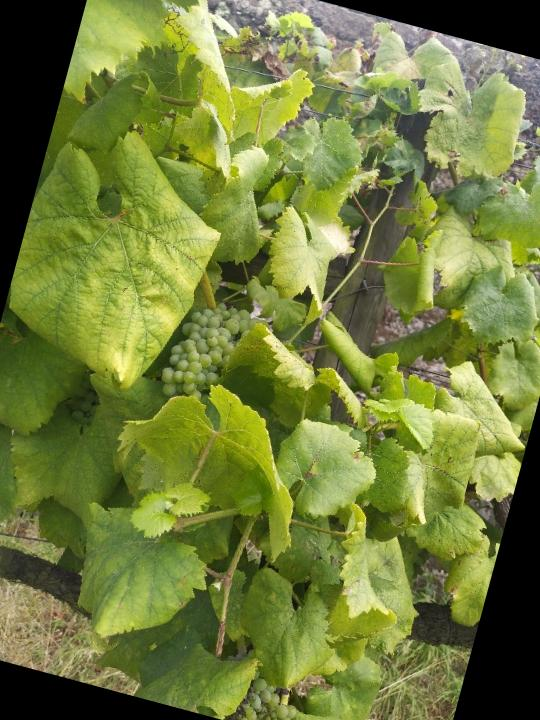grape: (154, 292, 253, 413)
